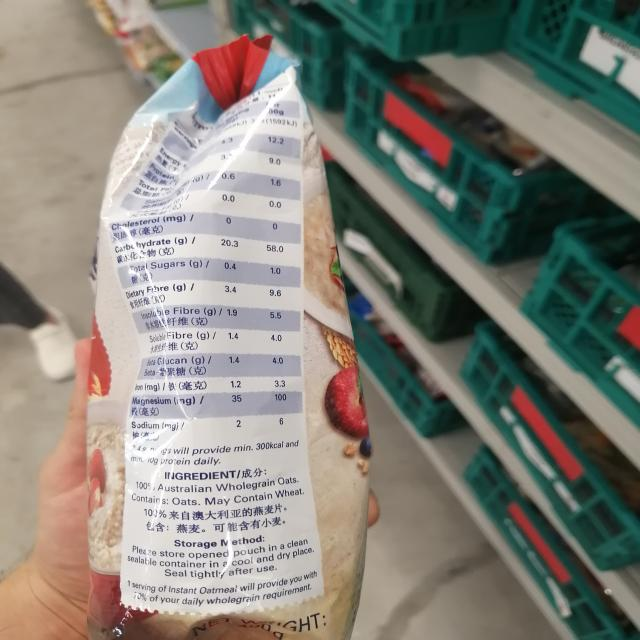object_name: (103, 61, 341, 640)
